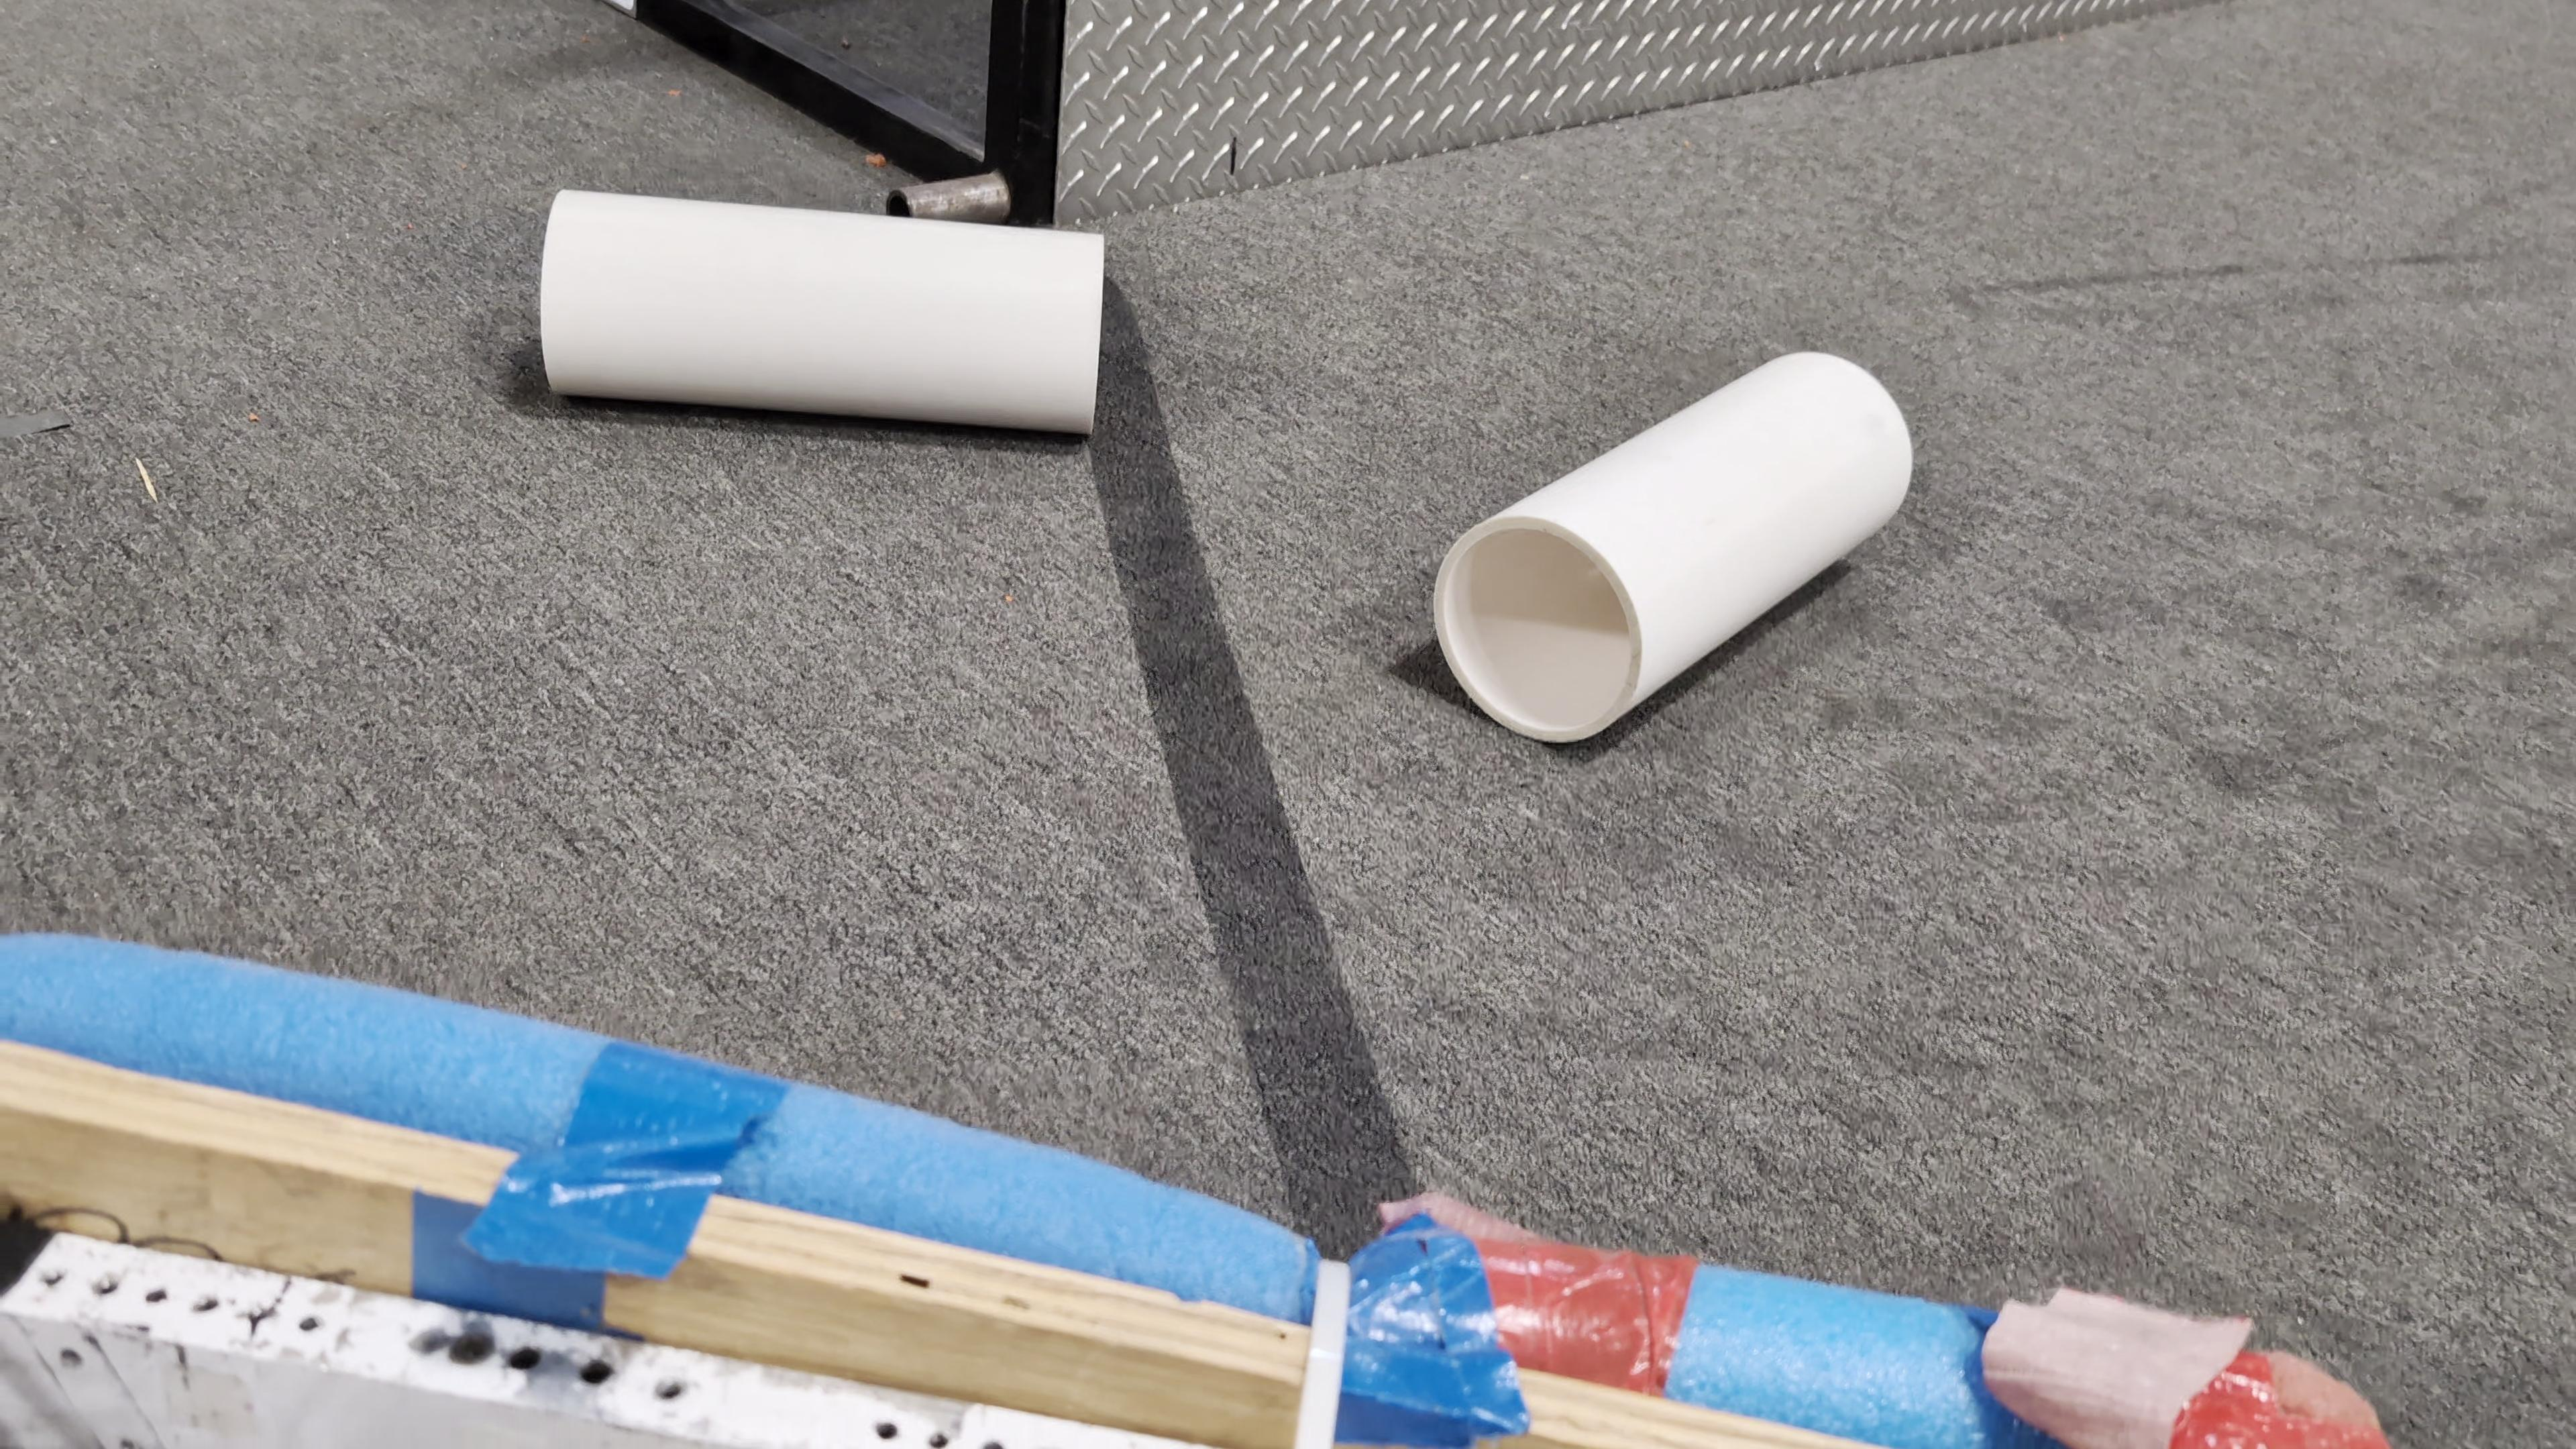coral: (1430, 347, 1916, 741), (536, 184, 1108, 433)
